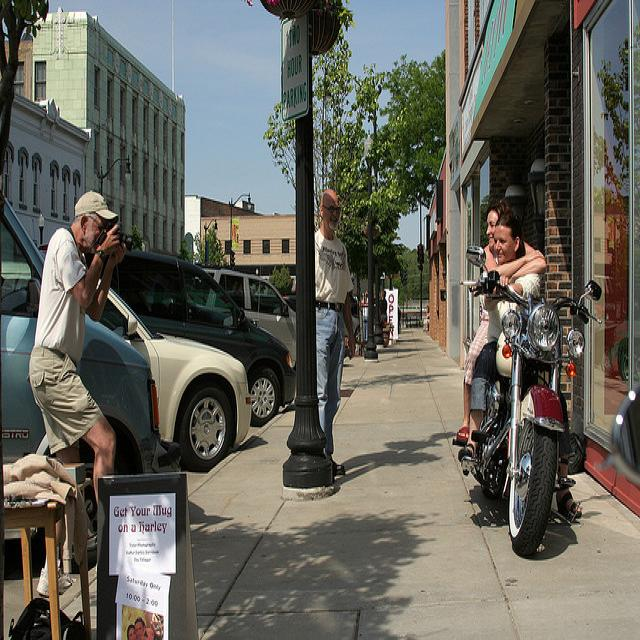motor: (462, 247, 605, 553)
